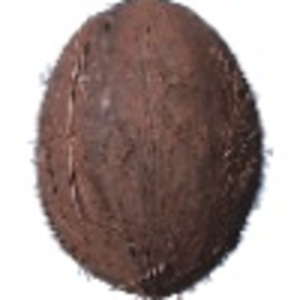coco: (36, 1, 272, 300)
